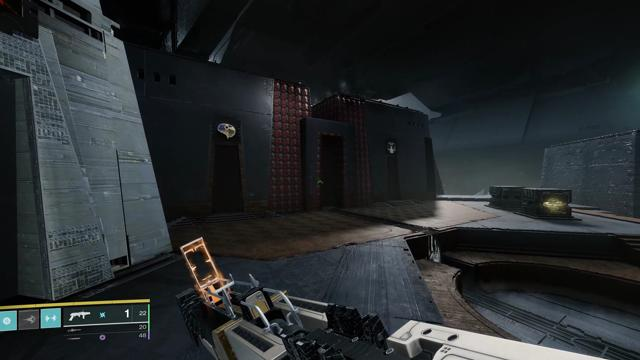brain: (216, 121, 235, 140)
drink: (386, 141, 396, 154)
stop: (0, 0, 23, 18)
